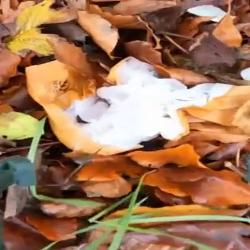Restaffald: (66, 58, 233, 151)
